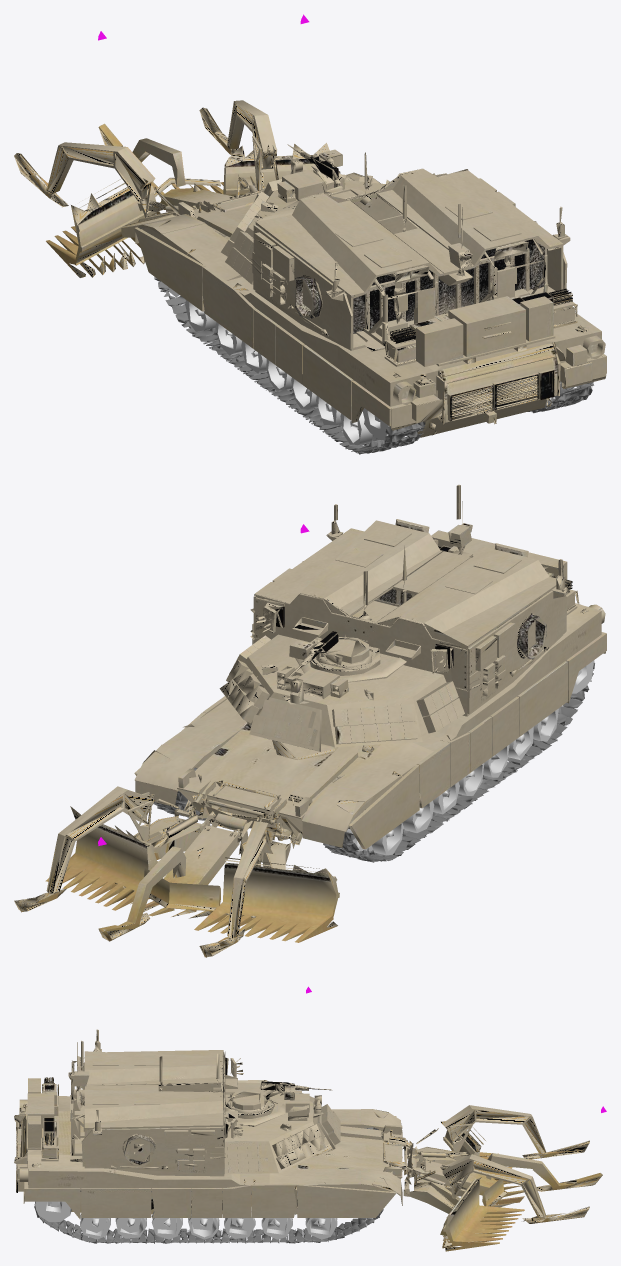
The model's file is breacher.glb.
The picture shows the model from 3 angles, top to bottom: view 1: azimuth 30°, elevation 25°; view 2: azimuth 150°, elevation 25°; view 3: azimuth 270°, elevation 25°; orthographic projection. The views are drawn at different scales.
Visible parts, largest first — view 1: Body_1, Body_4, Body_2, Body_5; view 2: Body_1, Body_4, Body_5, Body_2; view 3: Body_1, Body_4, Body_5, Body_2.
Boxes of the visible parts, bbox=[...] form: Body_1: bbox=[14, 100, 606, 437]; Body_4: bbox=[221, 144, 570, 351]; Body_2: bbox=[154, 277, 593, 454]; Body_5: bbox=[185, 300, 593, 444]; Body_1: bbox=[14, 530, 606, 957]; Body_4: bbox=[219, 484, 569, 751]; Body_5: bbox=[176, 660, 594, 855]; Body_2: bbox=[153, 663, 594, 862]; Body_1: bbox=[14, 1077, 602, 1251]; Body_4: bbox=[68, 1029, 340, 1176]; Body_5: bbox=[34, 1201, 372, 1239]; Body_2: bbox=[34, 1190, 383, 1243].
Bounding box in the file's own units: 8.55 × 9.56 × 23.13.
5 materials, 4 textured.
